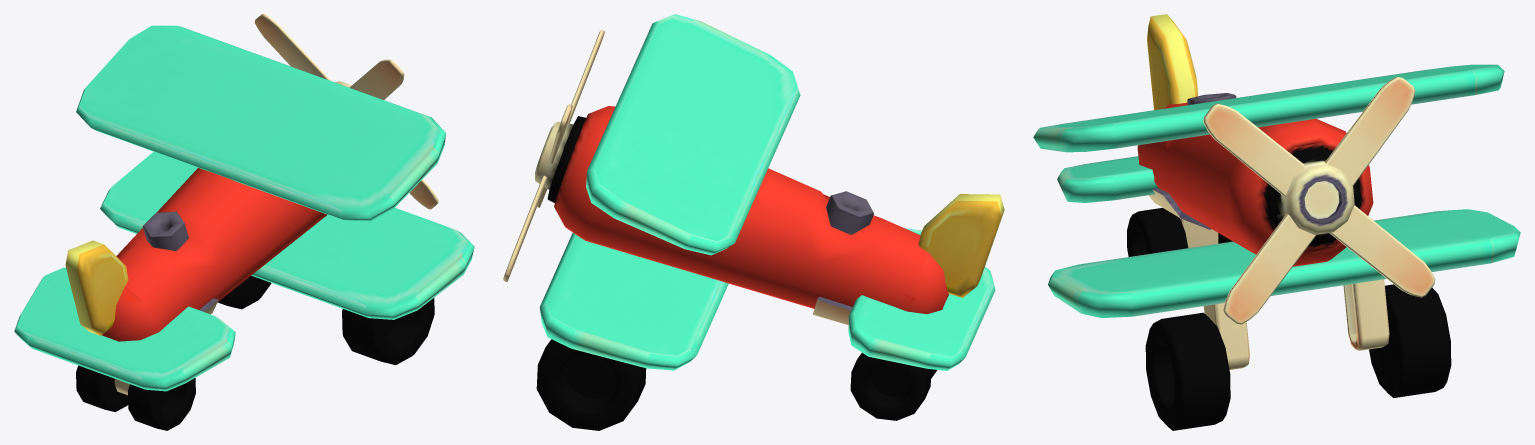
The model's file is aeroplane.fbx.
The picture shows the model from 3 angles, left to right: view 1: azimuth 30°, elevation 25°; view 2: azimuth 150°, elevation 25°; view 3: azimuth 270°, elevation 25°; orthographic projection. The views are drawn at different scales.
Visible parts, largest first — view 1: aeroplane; view 2: aeroplane; view 3: aeroplane.
Part boxes in pixels (x1,y1,x2,y2): aeroplane: [14, 14, 474, 430]; aeroplane: [503, 14, 1004, 430]; aeroplane: [1033, 14, 1520, 430].
Bounding box in the file's own units: 18.43 × 12.43 × 16.79.
Materials: 1 (1 with a texture image).
